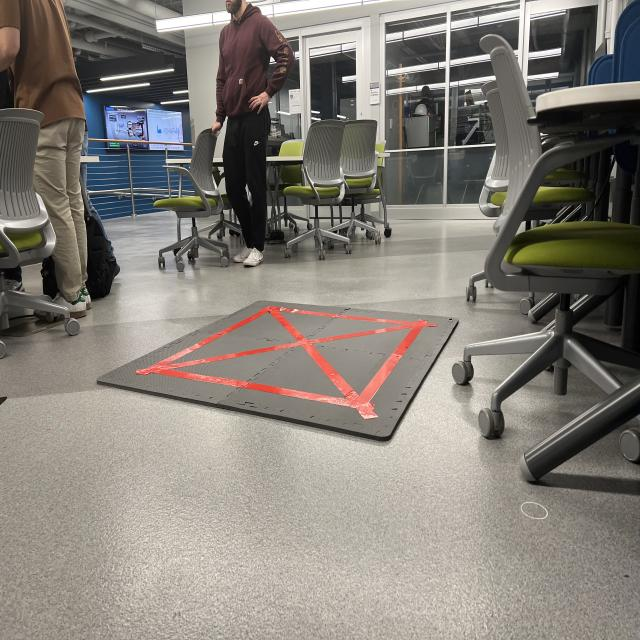landingPads: (103, 302, 459, 439)
